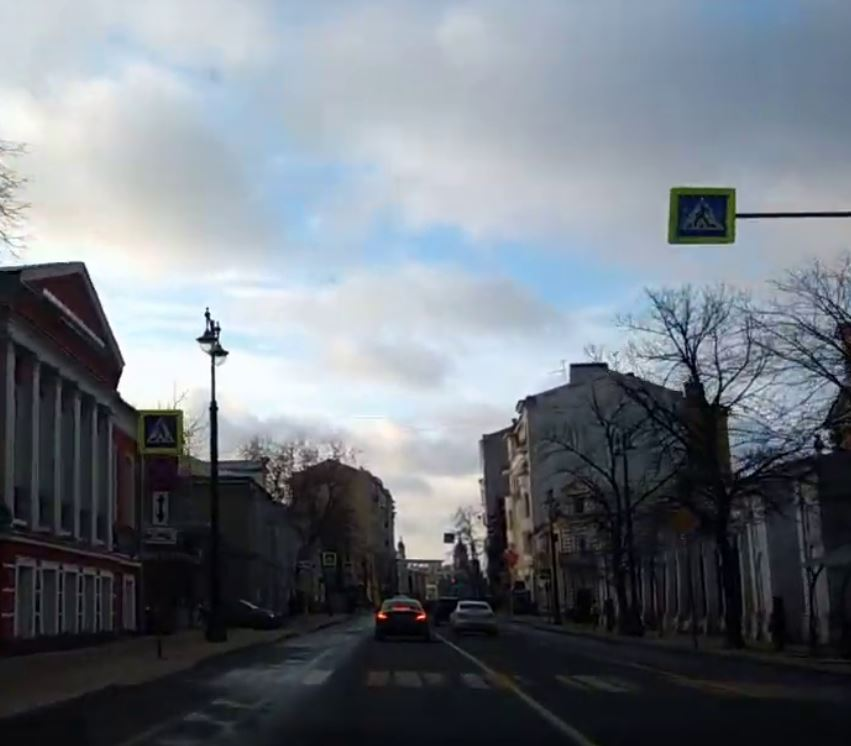Yaya Gecidi: (678, 191, 729, 238), (144, 414, 177, 445)
